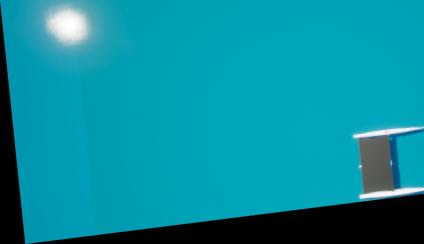boat: (345, 131, 424, 211)
drone: (354, 145, 388, 202)
land_base: (32, 0, 101, 64)
